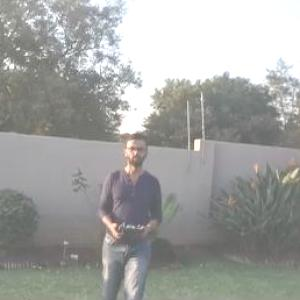follow: (84, 128, 170, 299)
